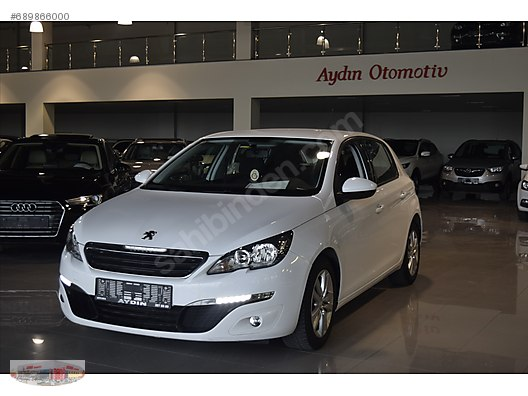peugeot: (54, 123, 429, 350)
